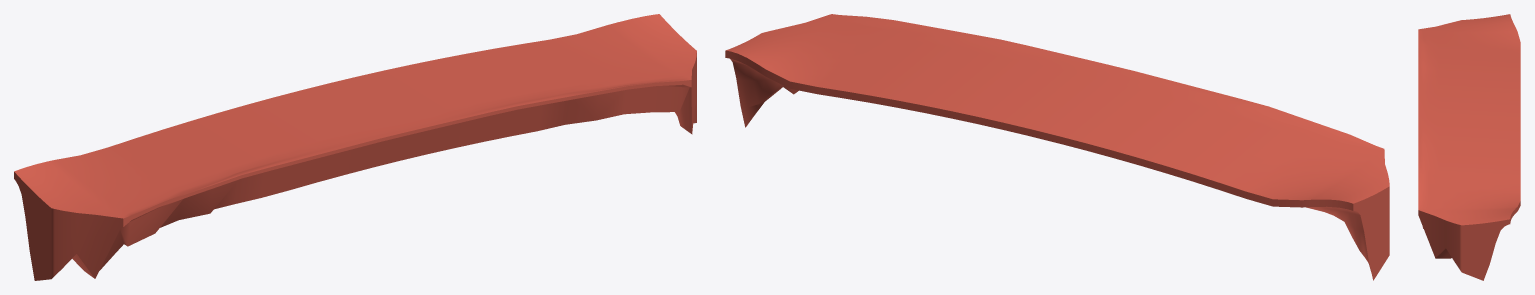
Rendered from wendtStrom_spoiler_sportMild.glb.
The picture shows the model from 3 angles, left to right: view 1: azimuth 30°, elevation 25°; view 2: azimuth 150°, elevation 25°; view 3: azimuth 270°, elevation 25°; orthographic projection. The views are drawn at different scales.
Visible parts, largest first — view 1: spoiler_sportMild; view 2: spoiler_sportMild; view 3: spoiler_sportMild.
Part boxes in pixels (bbox=[...]): spoiler_sportMild: bbox=[14, 14, 696, 280]; spoiler_sportMild: bbox=[725, 14, 1389, 280]; spoiler_sportMild: bbox=[1418, 14, 1520, 280].
Size of the model in its own units: 1.17 by 0.186 by 0.2469.
